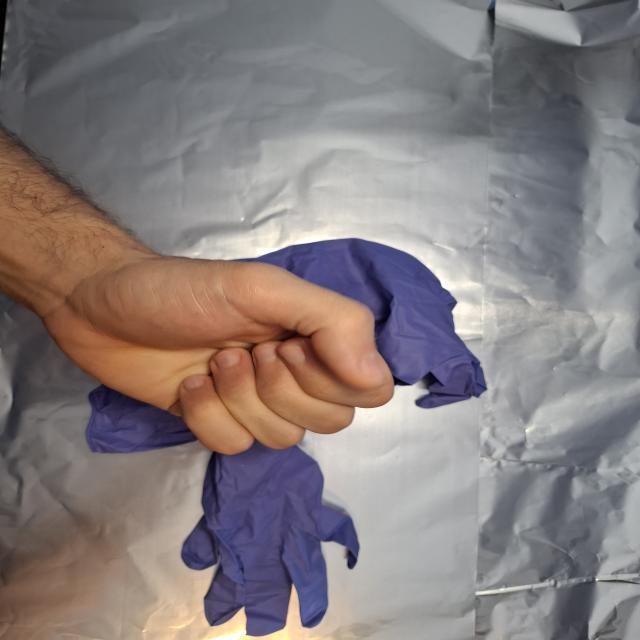glove_off: (36, 250, 398, 457)
